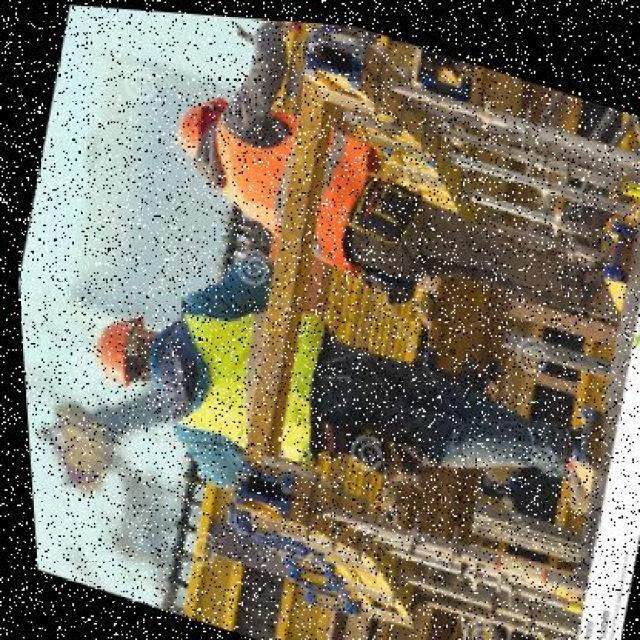vest: (151, 268, 347, 468), (193, 91, 383, 261)
